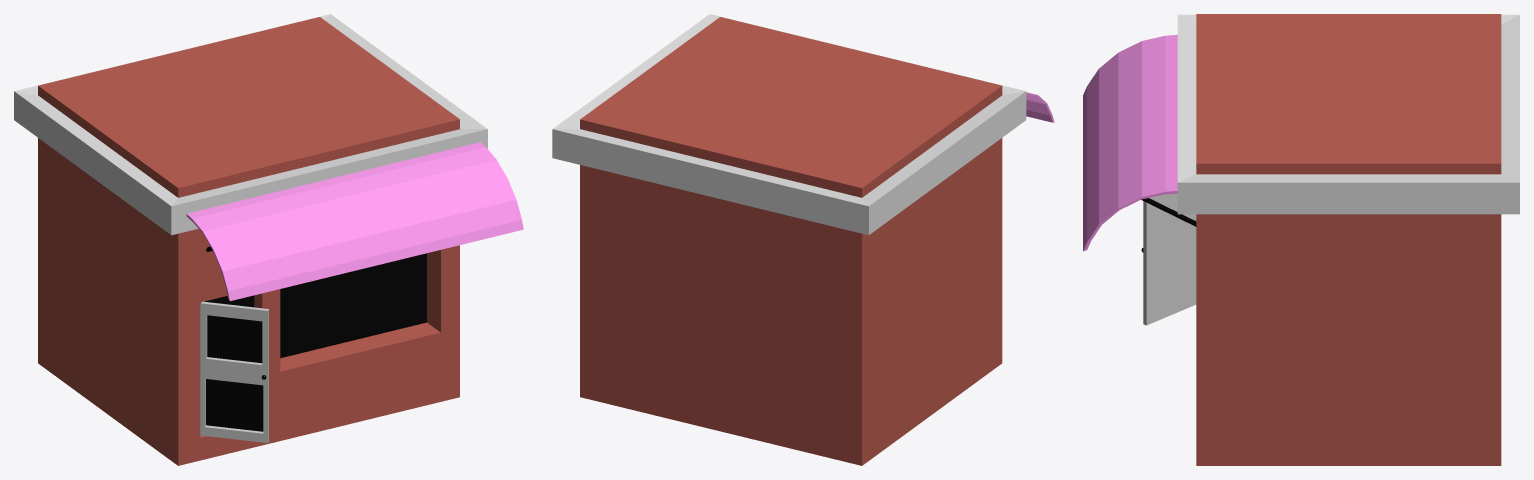
Rendered from Store_red.fbx.
The picture shows the model from 3 angles, left to right: view 1: azimuth 30°, elevation 25°; view 2: azimuth 150°, elevation 25°; view 3: azimuth 270°, elevation 25°; orthographic projection. The views are drawn at different scales.
Visible parts, largest first — view 1: Cube.005; view 2: Cube.005; view 3: Cube.005.
Boxes of the visible parts, x1=… form: Cube.005: x1=14, y1=14, x2=523, y2=465; Cube.005: x1=552, y1=14, x2=1054, y2=465; Cube.005: x1=1083, y1=14, x2=1519, y2=465.
Bounding box in the file's own units: 261 × 219 × 286.
